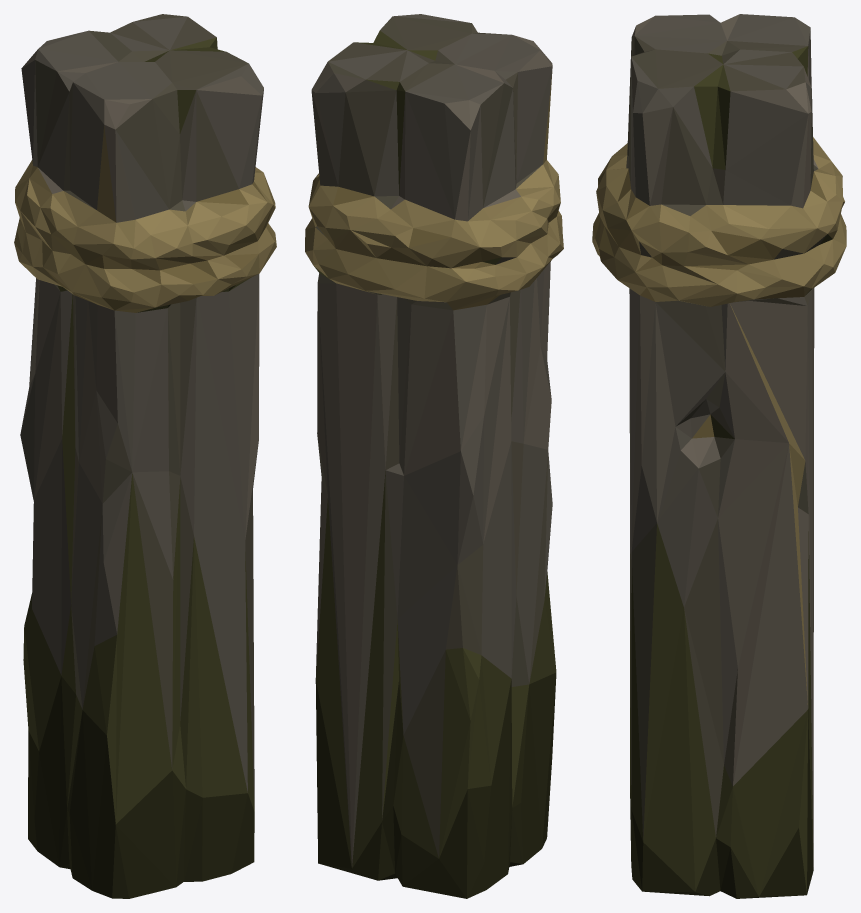
File: piling.glb
The picture shows the model from 3 angles, left to right: view 1: azimuth 30°, elevation 25°; view 2: azimuth 150°, elevation 25°; view 3: azimuth 270°, elevation 25°; orthographic projection.
Visible parts, largest first — view 1: piling; view 2: piling; view 3: piling.
Part boxes in pixels (x1,y1,x2,y2): piling: [14, 14, 276, 898]; piling: [305, 14, 563, 898]; piling: [592, 14, 846, 898].
Size of the model in its own units: 0.7566 by 2.6 by 0.7414.
